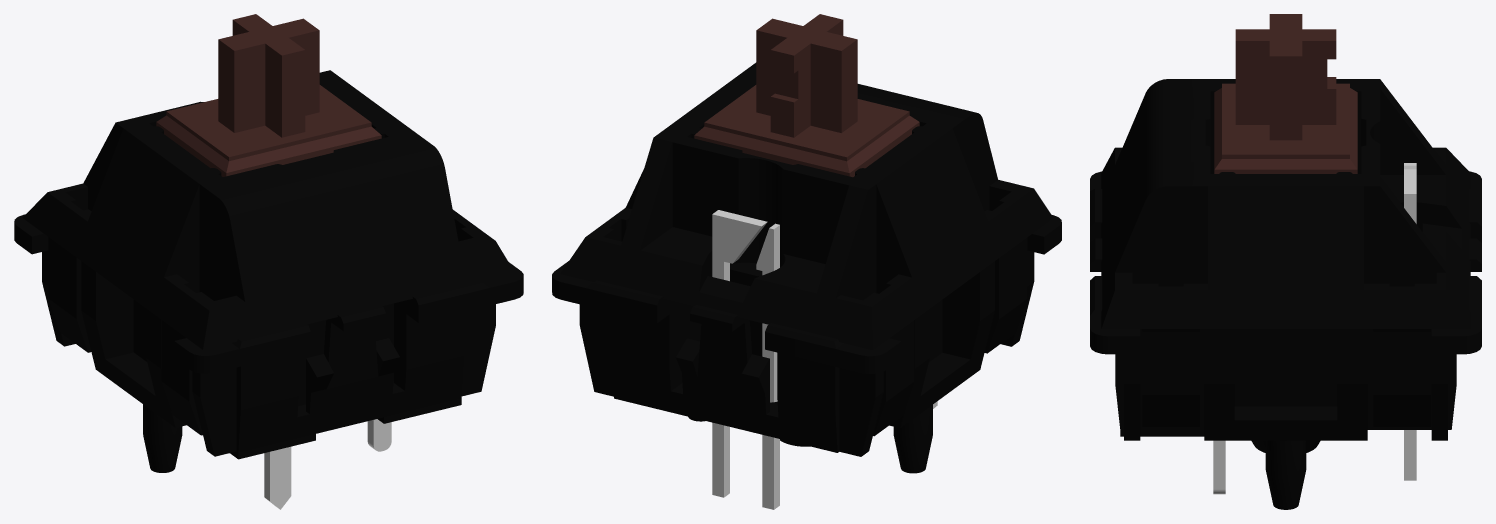
The model's file is brown.glb.
3 renders of one model, left to right at view 1: azimuth 30°, elevation 25°; view 2: azimuth 150°, elevation 25°; view 3: azimuth 270°, elevation 25°, orthographic. The views are drawn at different scales.
Visible parts, largest first — view 1: Mid Top, Mid Bottom, Mid Switch, Mid LED; view 2: Mid Top, Mid Bottom, Mid Switch, Mid LED; view 3: Mid Top, Mid Bottom, Mid Switch, Mid LED.
Boxes of the visible parts, <box> form: Mid Top: <box>22,70,515,435</box>; Mid Bottom: <box>14,214,523,472</box>; Mid Switch: <box>156,14,381,176</box>; Mid LED: <box>264,419,391,509</box>; Mid Top: <box>560,62,1053,436</box>; Mid Bottom: <box>552,215,1061,473</box>; Mid Switch: <box>694,14,919,177</box>; Mid LED: <box>712,210,937,509</box>; Mid Top: <box>1101,79,1470,426</box>; Mid Bottom: <box>1090,171,1481,509</box>; Mid Switch: <box>1214,14,1357,173</box>; Mid LED: <box>1213,163,1416,494</box>.
Size of the model in its own units: 0.3613 by 0.4377 by 0.3613.
